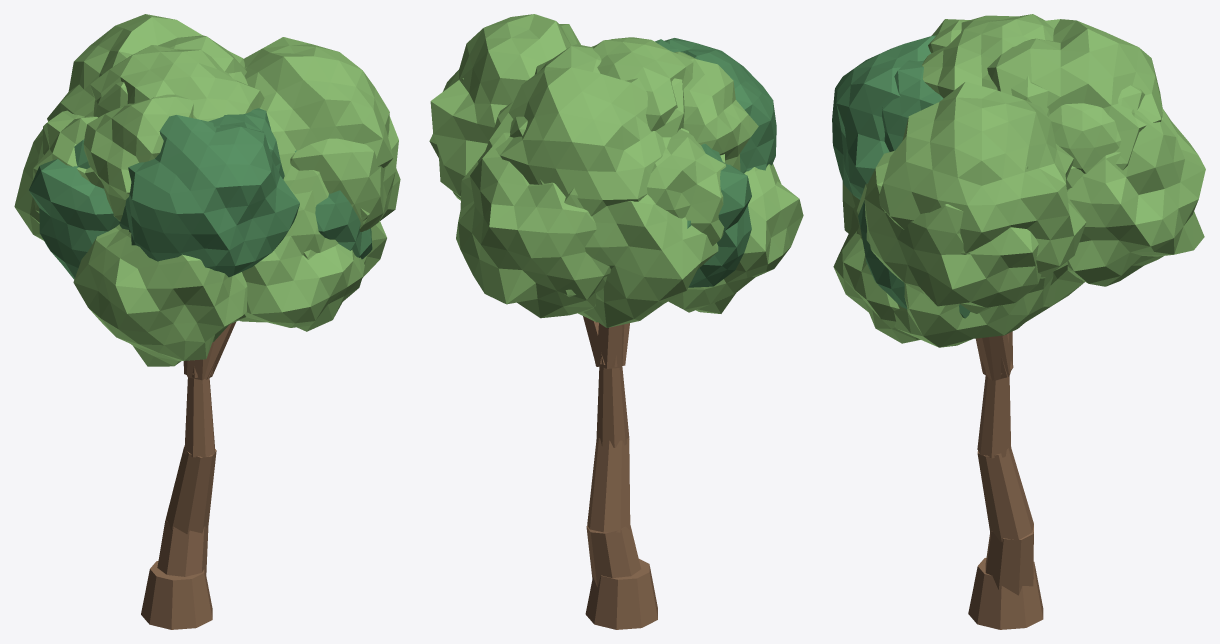
File: tree-oak.glb
The picture shows the model from 3 angles, left to right: view 1: azimuth 30°, elevation 25°; view 2: azimuth 150°, elevation 25°; view 3: azimuth 270°, elevation 25°; orthographic projection. The views are drawn at different scales.
Visible parts, largest first — view 1: tree-oak; view 2: tree-oak; view 3: tree-oak.
Part boxes in pixels (<box>): tree-oak: <box>14,14,400,629</box>; tree-oak: <box>429,14,803,629</box>; tree-oak: <box>832,14,1205,629</box>.
Size of the model in its own units: 2.65 by 4.33 by 2.48.
